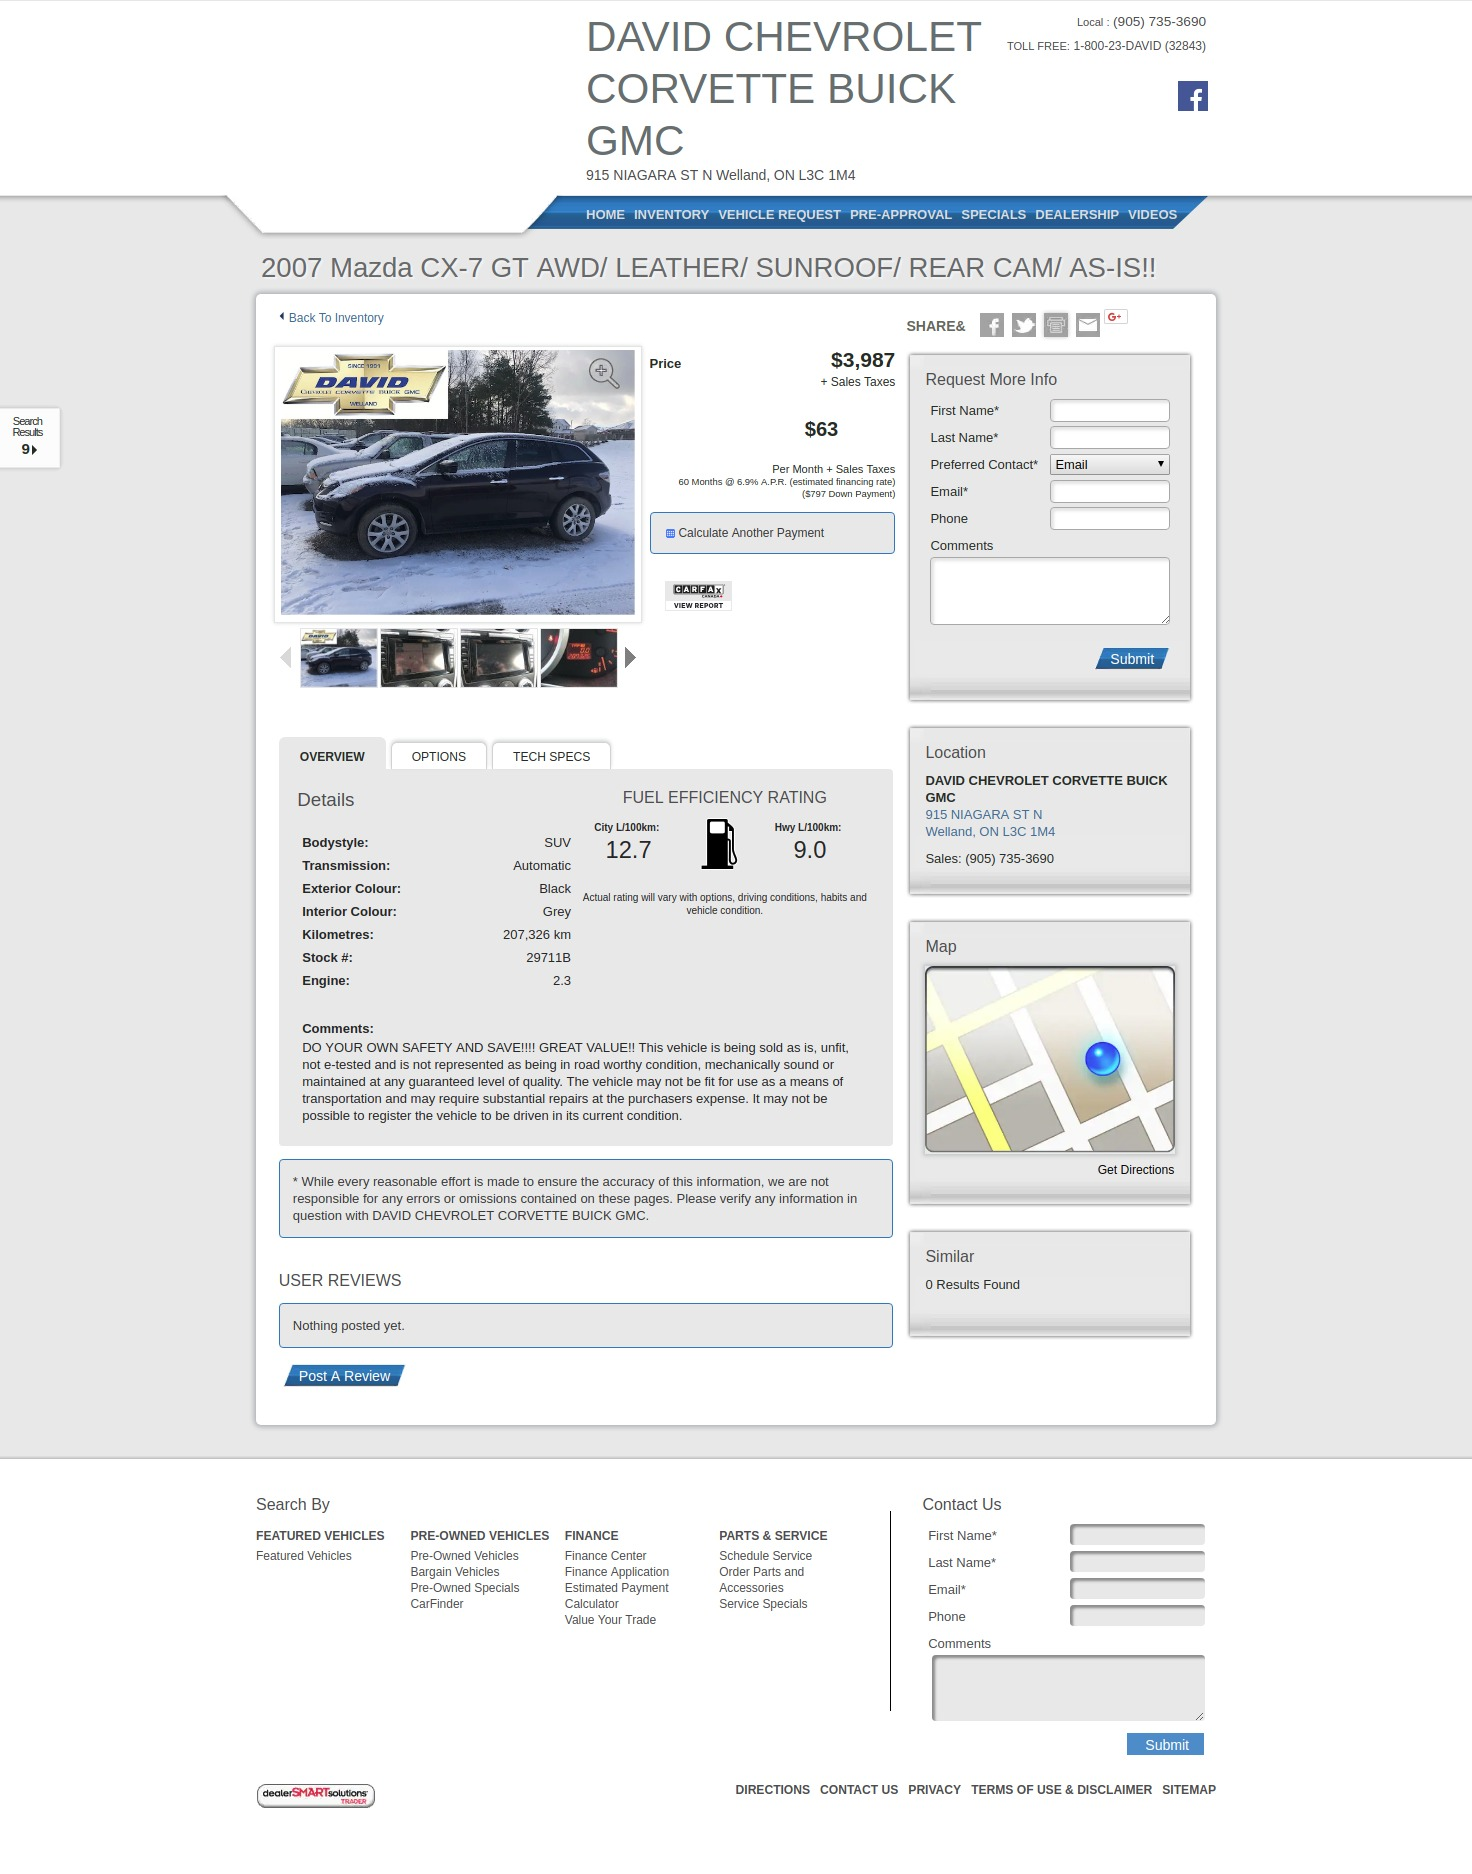car: (625, 645, 639, 669)
